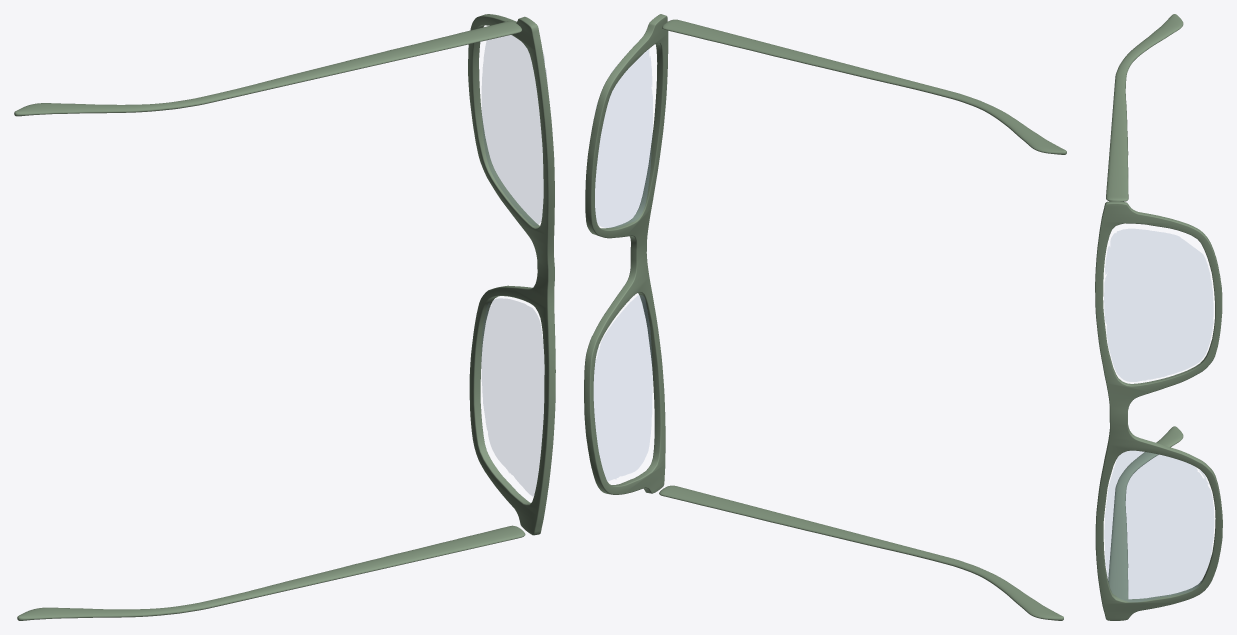
The model's file is model_0_sage_green.glb.
The picture shows the model from 3 angles, left to right: view 1: azimuth 30°, elevation 25°; view 2: azimuth 150°, elevation 25°; view 3: azimuth 270°, elevation 25°; orthographic projection. The views are drawn at different scales.
Visible parts, largest first — view 1: o model_0, Blue_Transparent_Lens_1, Blue_Transparent_Lens_2; view 2: o model_0, Blue_Transparent_Lens_1, Blue_Transparent_Lens_2; view 3: o model_0, Blue_Transparent_Lens_2, Blue_Transparent_Lens_1.
Part boxes in pixels (box(x1,y1,x2,y2)): o model_0: box(14, 14, 555, 620); Blue_Transparent_Lens_1: box(481, 298, 544, 496); Blue_Transparent_Lens_2: box(482, 35, 546, 225); o model_0: box(584, 14, 1066, 620); Blue_Transparent_Lens_1: box(594, 295, 652, 480); Blue_Transparent_Lens_2: box(595, 49, 652, 227); o model_0: box(1095, 14, 1222, 620); Blue_Transparent_Lens_2: box(1104, 229, 1213, 381); Blue_Transparent_Lens_1: box(1104, 451, 1213, 601).
Bounding box in the file's own units: 12.74 × 12.44 × 3.46.
